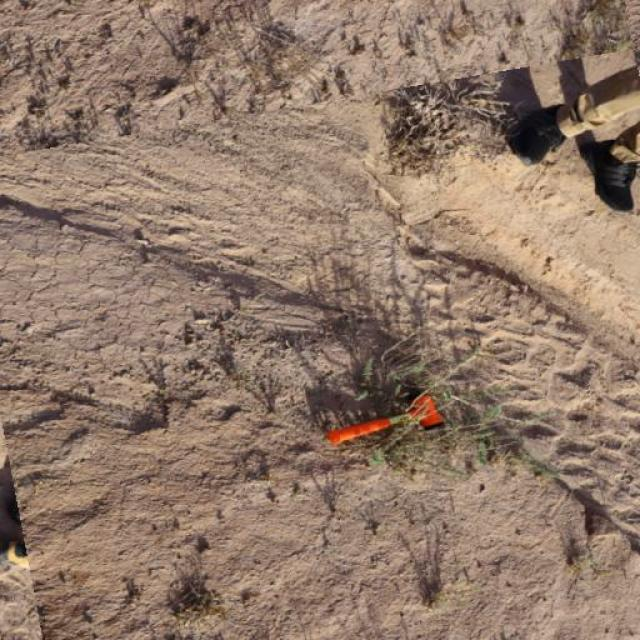mallet: (325, 392, 445, 446)
